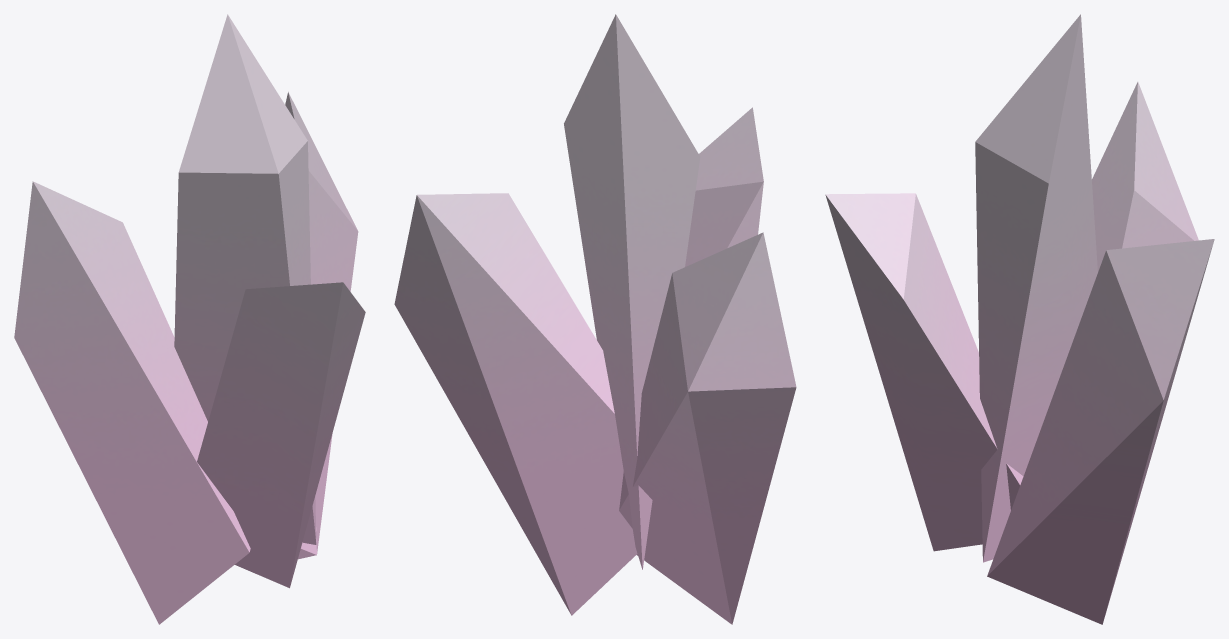
Rendered from crystal3.fbx.
3 views of the same model, side by side, from view 1: azimuth 30°, elevation 25°; view 2: azimuth 150°, elevation 25°; view 3: azimuth 270°, elevation 25° (orthographic). The views are drawn at different scales.
Parts seen in each view (by area): view 1: cristal_3; view 2: cristal_3; view 3: cristal_3.
Boxes of the visible parts, <box> form: cristal_3: <box>14,14,365,624</box>; cristal_3: <box>394,14,796,624</box>; cristal_3: <box>825,14,1214,624</box>.
Bounding box in the file's own units: 0.2596 × 0.3922 × 0.2318.
1 material, 1 textured.
